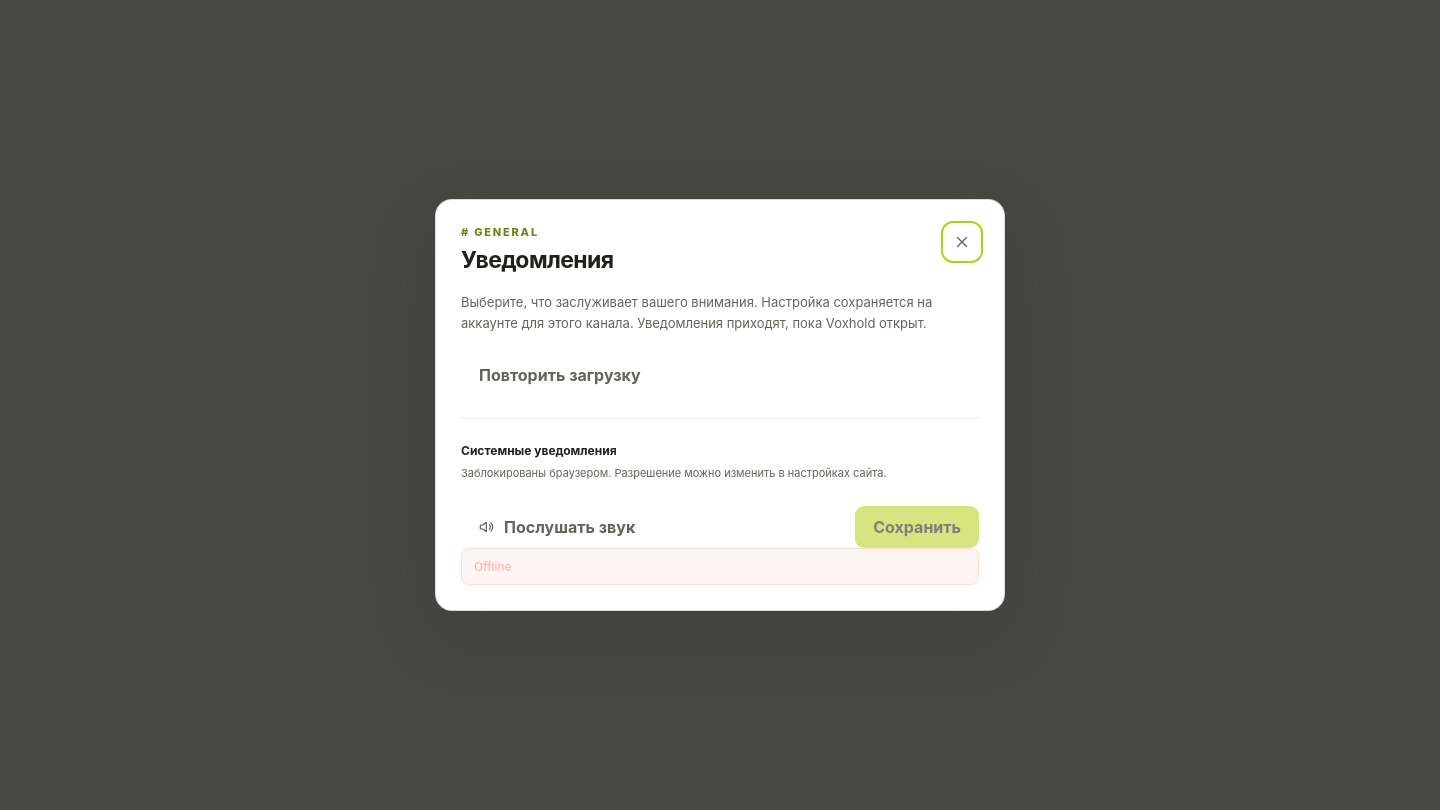
Scenario: does not display a default policy when loading fails
The image size is (1440, 810).
Expected: the message reads "Offline", [474, 559, 512, 574]
Click the button "Повторить загрузку" at (560, 374), box [461, 354, 659, 396]
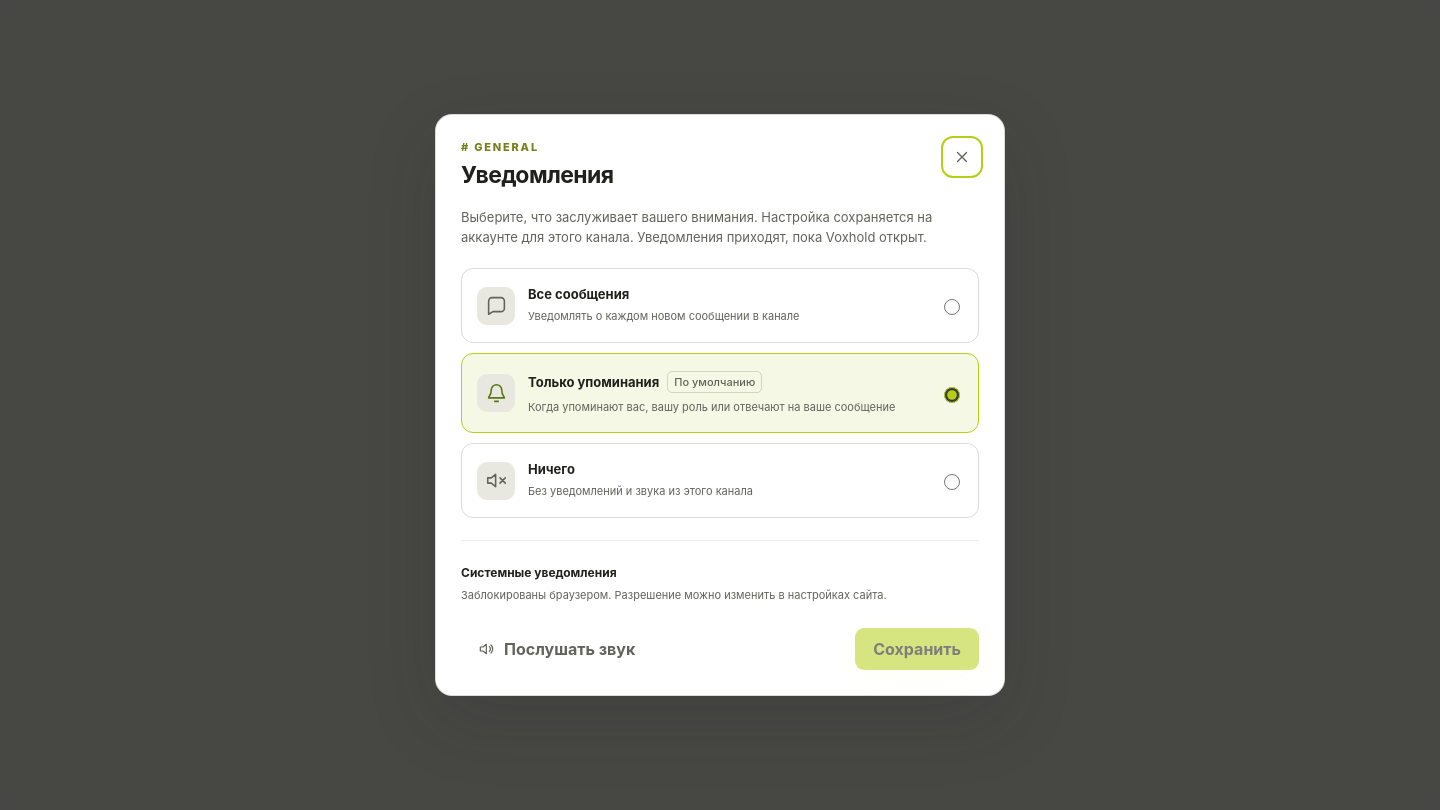
Expected: the radio button labelled "Только упоминания" is checked, [944, 386, 960, 402]
